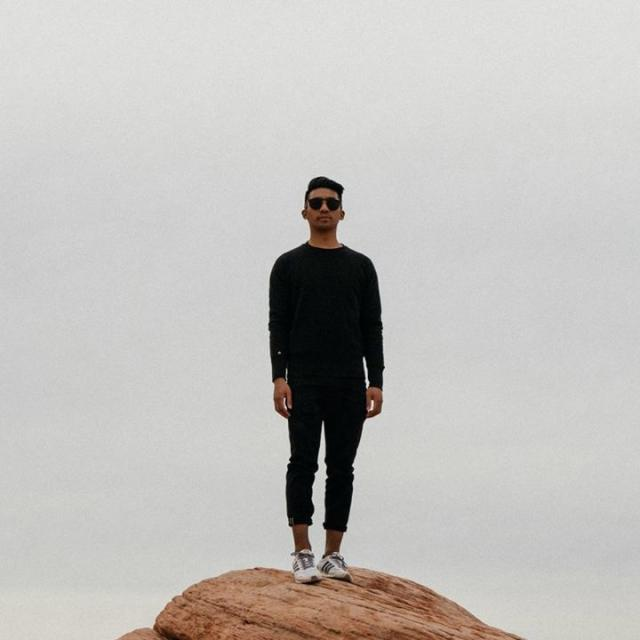adult: (267, 177, 383, 584)
